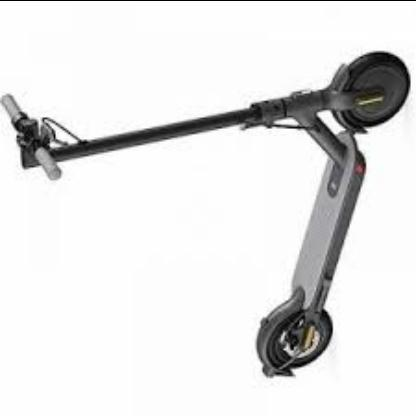bike: (7, 51, 413, 381)
